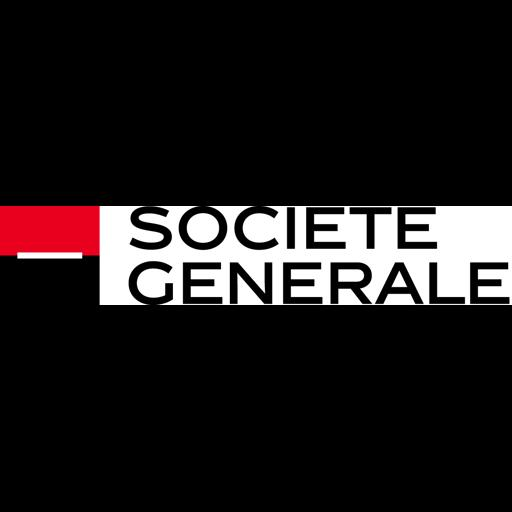Societe Generale: (0, 206, 512, 305)
